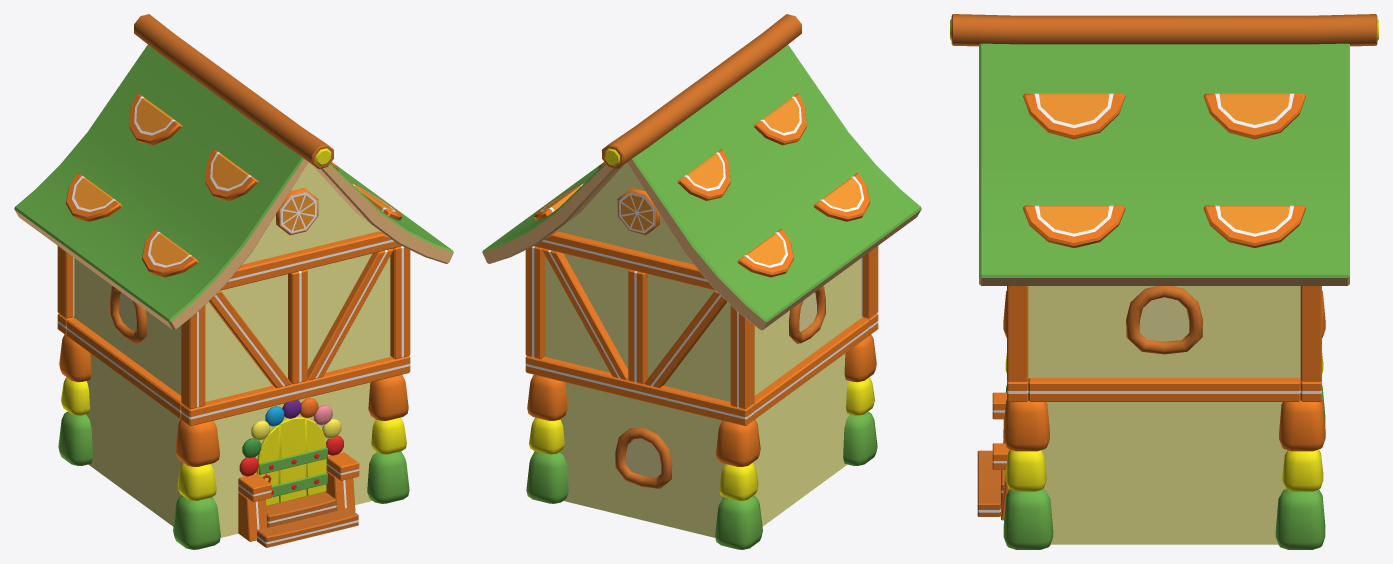
The model's file is House_6.fbx.
The picture shows the model from 3 angles, left to right: view 1: azimuth 30°, elevation 25°; view 2: azimuth 150°, elevation 25°; view 3: azimuth 270°, elevation 25°; orthographic projection. The views are drawn at different scales.
Parts seen in each view (by area): view 1: House_6; view 2: House_6; view 3: House_6.
Boxes of the visible parts, box(x1,y1,x2,y2) form: House_6: box(14, 14, 453, 549); House_6: box(482, 14, 921, 549); House_6: box(950, 14, 1378, 549).
Size of the model in its own units: 6.93 by 9.25 by 7.6.
